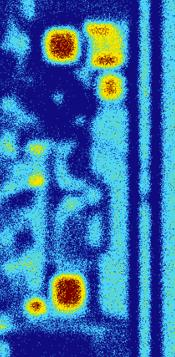Pad 1: (52, 273, 85, 313), (46, 30, 78, 62)
Pad 2: (98, 75, 123, 100)
